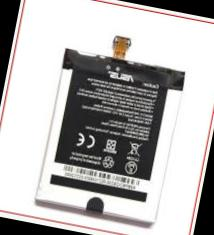battery: (4, 16, 206, 235)
